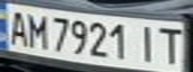1: (106, 20, 133, 61)
2: (87, 18, 109, 58)
7: (45, 14, 72, 53)
9: (66, 16, 90, 56)
A: (3, 7, 30, 47)
I: (133, 21, 163, 64)
M: (24, 10, 51, 49)
T: (154, 24, 187, 65)
